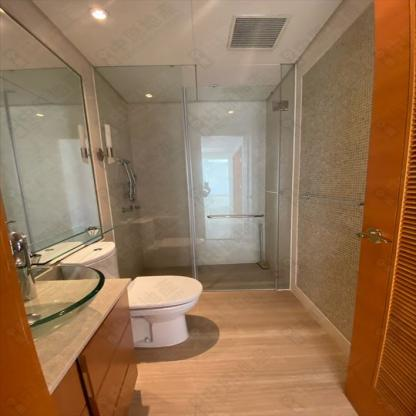Toilet: (48, 241, 204, 348)
Toilet Sink: (26, 265, 102, 338)
Water Cubicle: (95, 62, 297, 293)
